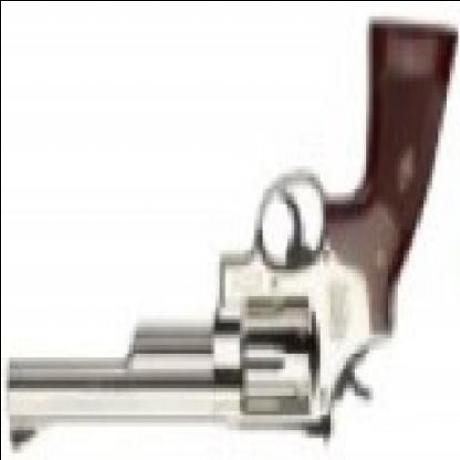weapon: (3, 17, 452, 451)
